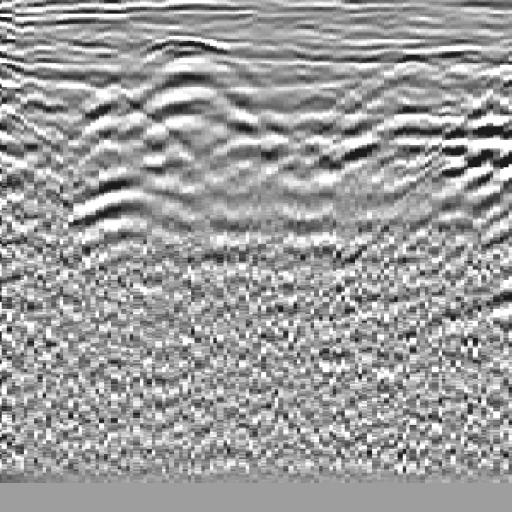metalic: (66, 42, 204, 315)
nonmetalic: (363, 34, 512, 276)
